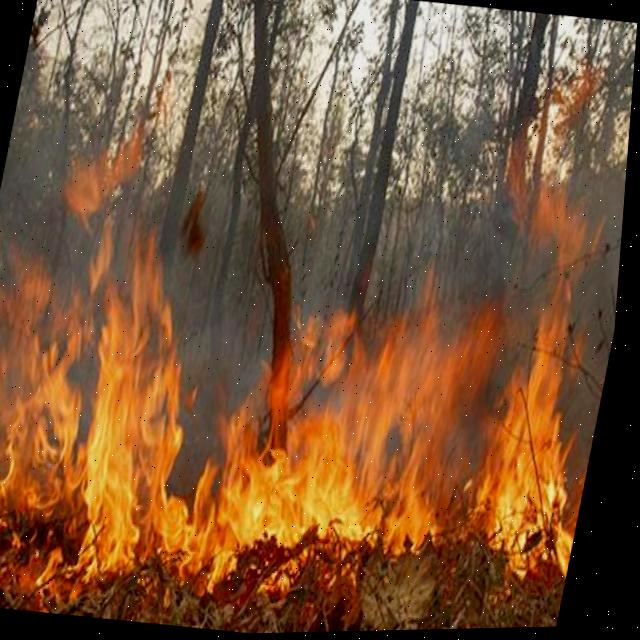fire: (0, 116, 599, 635)
smoke: (268, 0, 638, 323), (0, 0, 210, 274), (172, 0, 276, 493)
